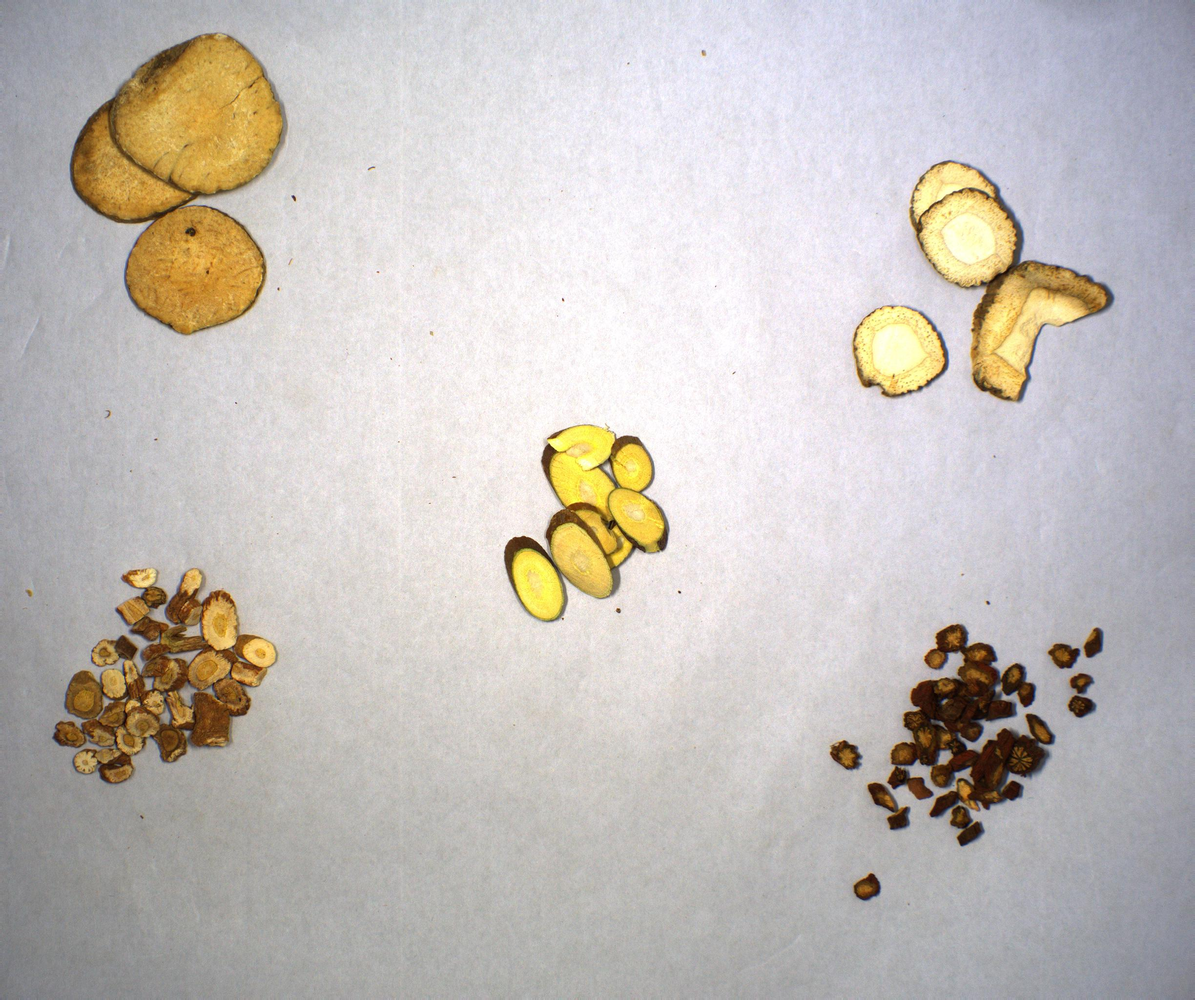baizhi: (853, 159, 1117, 411)
banlangen: (52, 565, 280, 784)
danshen: (828, 620, 1102, 906)
sangzhi: (503, 421, 673, 625)
zexie: (68, 29, 288, 339)
